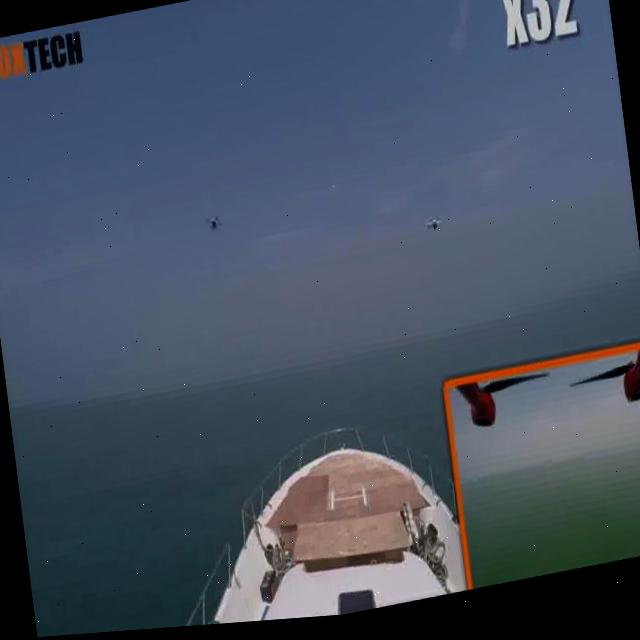drone: (198, 207, 226, 245), (418, 215, 446, 239)
